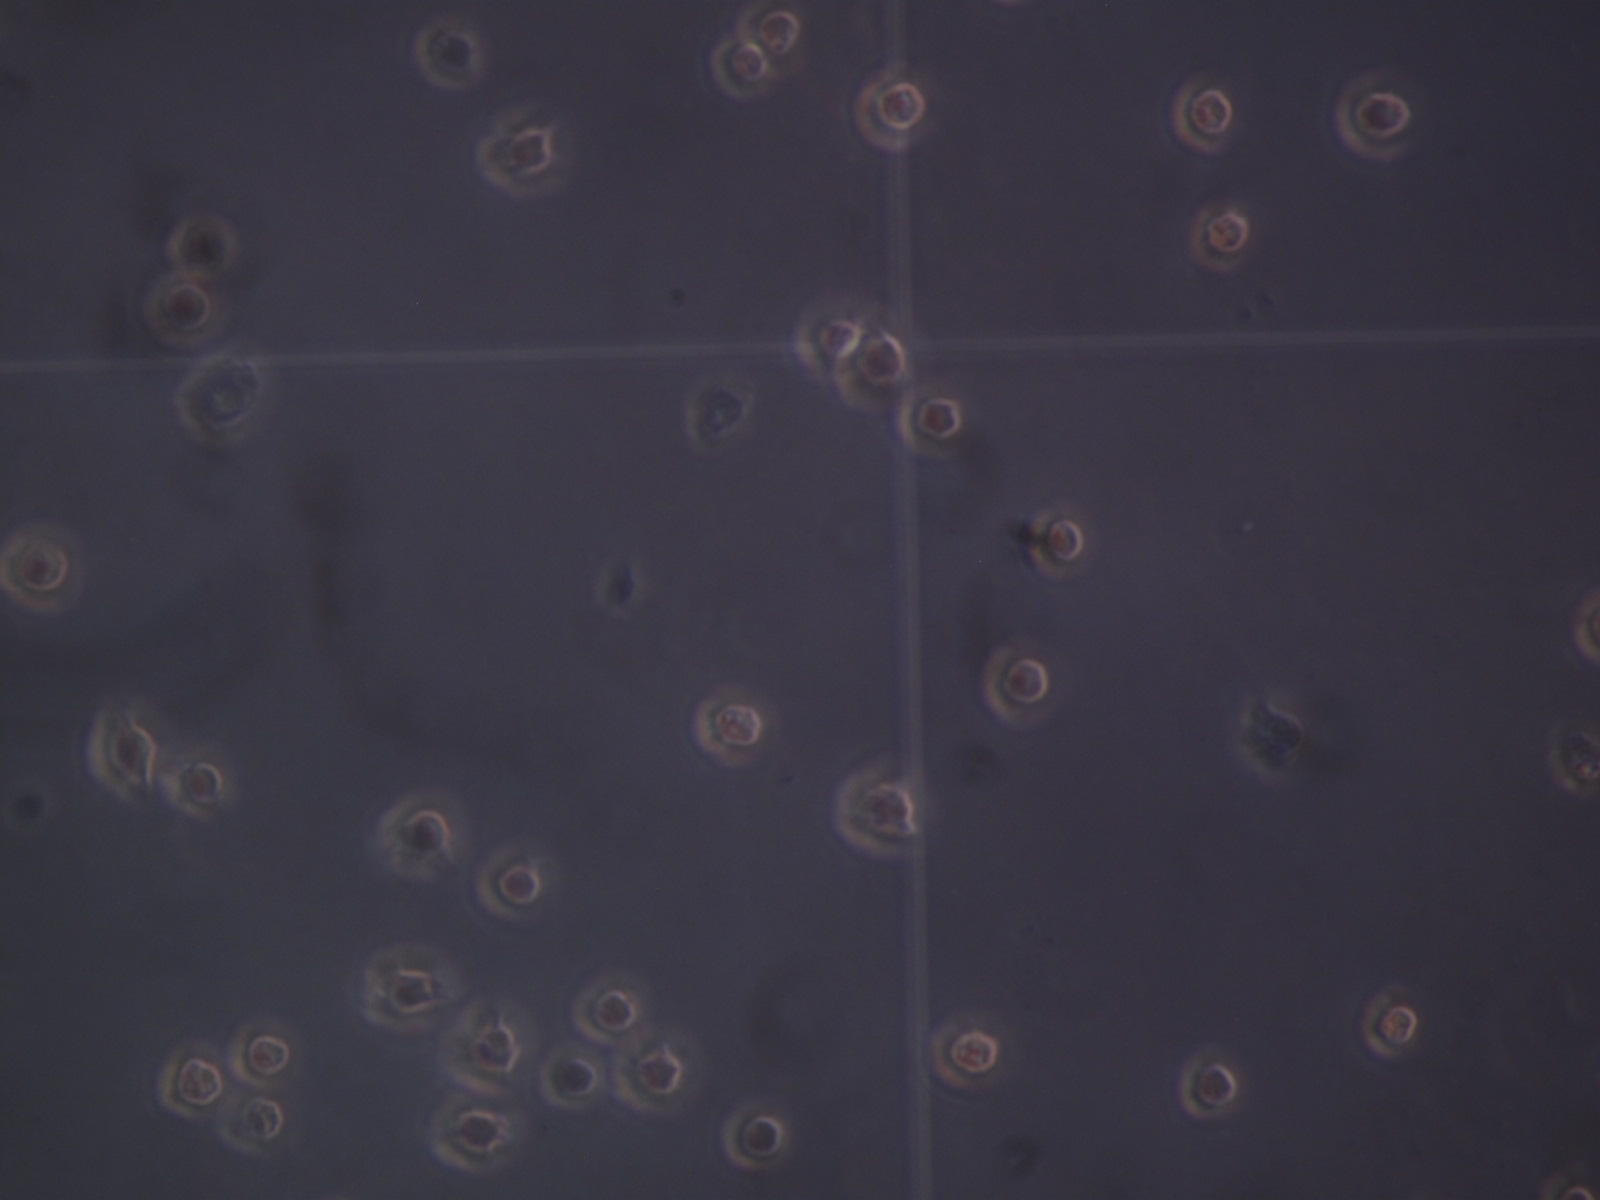hemo: (175, 355, 273, 444), (438, 992, 520, 1095), (87, 705, 173, 800), (375, 789, 469, 874), (834, 769, 917, 861), (1, 519, 83, 613), (474, 113, 558, 200), (1333, 71, 1411, 163), (145, 275, 231, 348), (364, 945, 438, 1029), (850, 72, 925, 153), (692, 686, 761, 771), (428, 1094, 501, 1174), (979, 648, 1049, 729), (837, 326, 906, 408), (161, 746, 234, 823), (612, 1039, 684, 1116), (794, 296, 860, 378), (165, 211, 242, 280), (682, 379, 752, 453), (894, 384, 961, 461), (574, 974, 646, 1045), (412, 18, 480, 92), (1170, 76, 1233, 155), (737, 3, 808, 72), (1023, 507, 1089, 581), (934, 1018, 999, 1093), (1187, 200, 1249, 277), (479, 845, 540, 919), (709, 34, 776, 100), (219, 1092, 283, 1157), (724, 1102, 784, 1172), (535, 1042, 597, 1108), (1358, 991, 1419, 1058), (163, 1053, 220, 1121), (1180, 1051, 1237, 1119), (1550, 724, 1600, 795), (232, 1025, 291, 1085)
